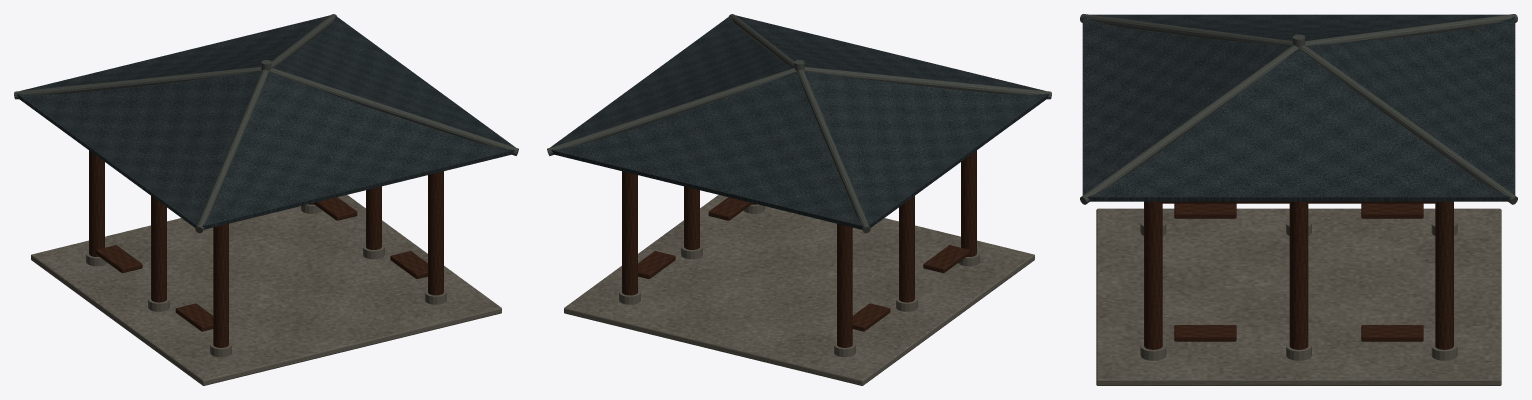
Rendered from c_lake_pavilion.glb.
The picture shows the model from 3 angles, left to right: view 1: azimuth 30°, elevation 25°; view 2: azimuth 150°, elevation 25°; view 3: azimuth 270°, elevation 25°; orthographic projection. The views are drawn at different scales.
Parts seen in each view (by area): view 1: Roof_DarkGrayRoof, Structure_WarmGrayStone, Structure_AgedTimber, Roof_WeatheredRidge; view 2: Roof_DarkGrayRoof, Structure_WarmGrayStone, Structure_AgedTimber, Roof_WeatheredRidge; view 3: Roof_DarkGrayRoof, Structure_WarmGrayStone, Structure_AgedTimber, Roof_WeatheredRidge.
Part boxes in pixels (x1=…): Roof_DarkGrayRoof: x1=16, y1=15, x2=515, y2=230; Structure_WarmGrayStone: x1=31, y1=195, x2=501, y2=385; Structure_AgedTimber: x1=89, y1=150, x2=443, y2=347; Roof_WeatheredRidge: x1=14, y1=14, x2=518, y2=233; Roof_DarkGrayRoof: x1=550, y1=15, x2=1049, y2=230; Structure_WarmGrayStone: x1=564, y1=195, x2=1034, y2=385; Structure_AgedTimber: x1=622, y1=150, x2=976, y2=347; Roof_WeatheredRidge: x1=547, y1=14, x2=1051, y2=233; Roof_DarkGrayRoof: x1=1082, y1=14, x2=1515, y2=201; Structure_WarmGrayStone: x1=1096, y1=208, x2=1501, y2=385; Structure_AgedTimber: x1=1144, y1=201, x2=1453, y2=349; Roof_WeatheredRidge: x1=1080, y1=14, x2=1517, y2=204.
Size of the model in its own units: 8.43 by 5.6 by 8.43.
Materials: 4 (4 with a texture image).
